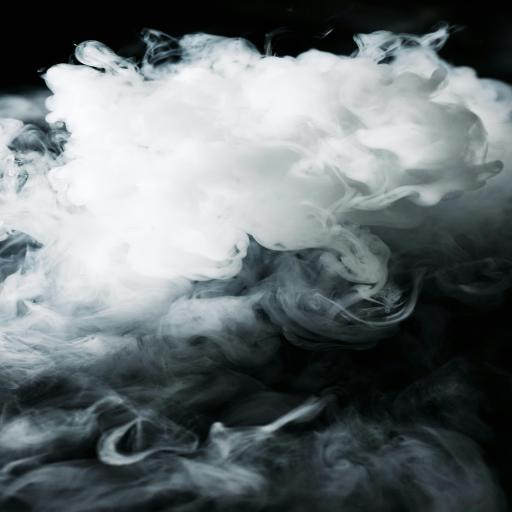smoke: (1, 3, 512, 364)
